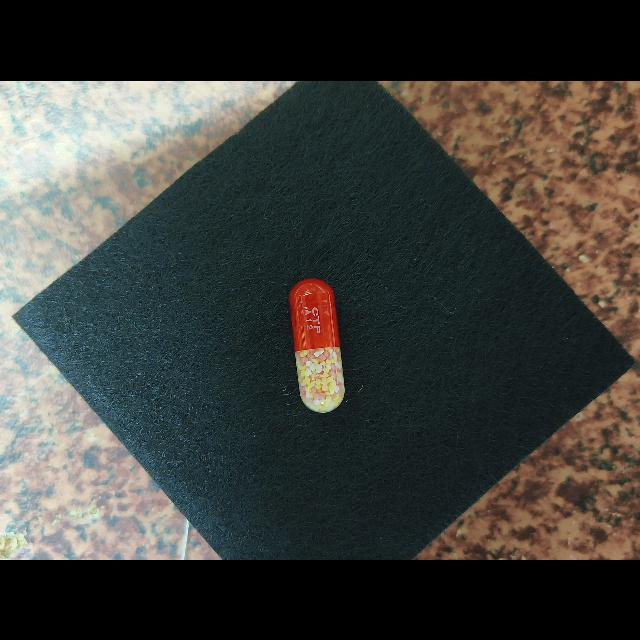Intact Capsule: (289, 277, 345, 412)
